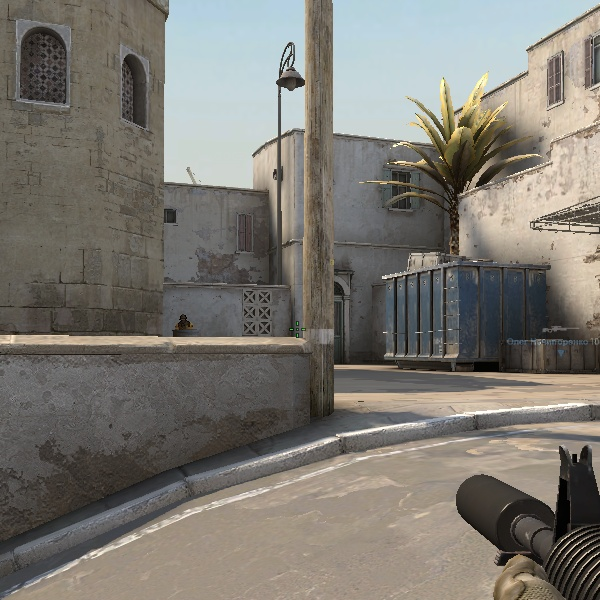t_body: (173, 313, 195, 329)
t_head: (179, 313, 188, 323)
